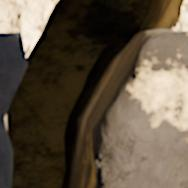broken_brick: (95, 29, 187, 187), (0, 31, 25, 187)
crack: (2, 0, 187, 187)
